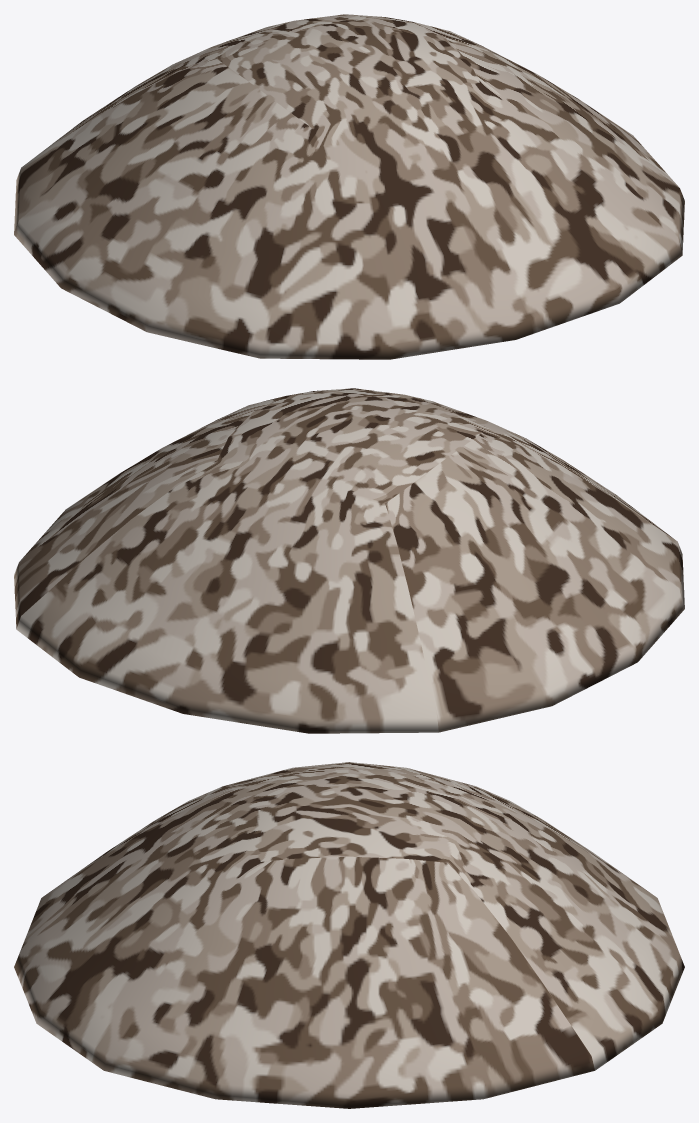
The model's file is chickenteeth.fbx.
3 views of the same model, one above another, from view 1: azimuth 30°, elevation 25°; view 2: azimuth 150°, elevation 25°; view 3: azimuth 270°, elevation 25° (orthographic).
Visible parts, largest first — view 1: polySurface3; view 2: polySurface3; view 3: polySurface3.
Boxes of the visible parts, x1,y1,x2,y2 form: polySurface3: (14, 14, 684, 359); polySurface3: (14, 388, 684, 733); polySurface3: (14, 762, 684, 1108).
Bounding box in the file's own units: 5.23 × 1.66 × 5.23.
